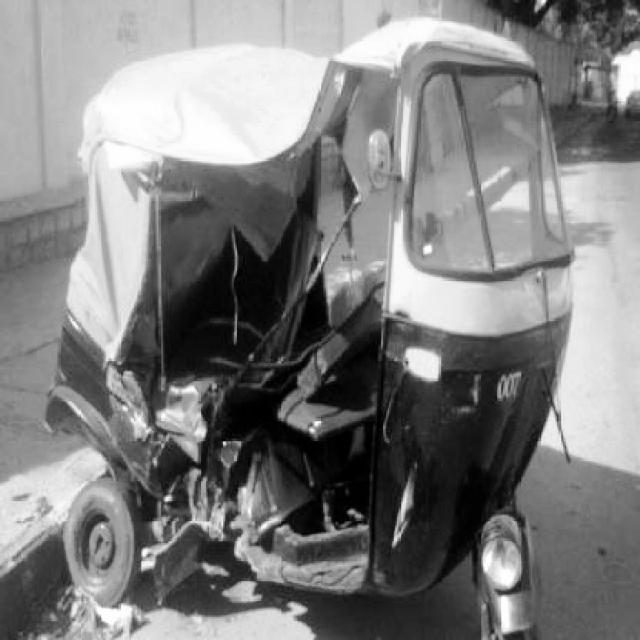Auto-Rickshaw: (48, 15, 577, 638)
